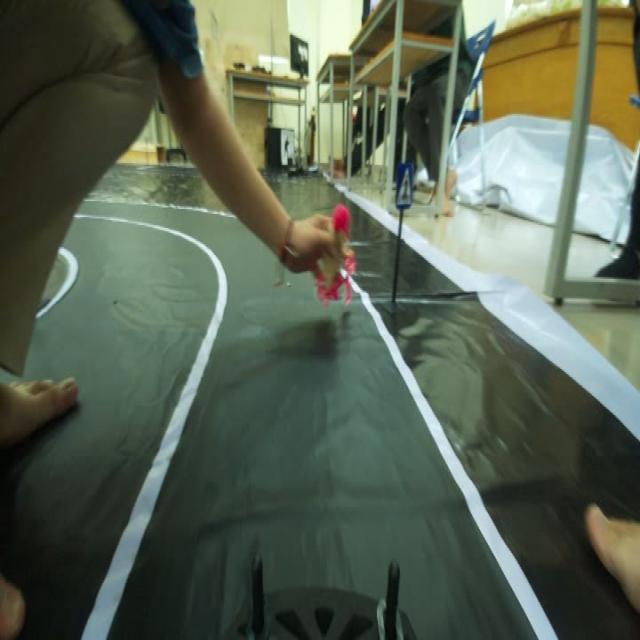crosswalk: (391, 154, 426, 222)
